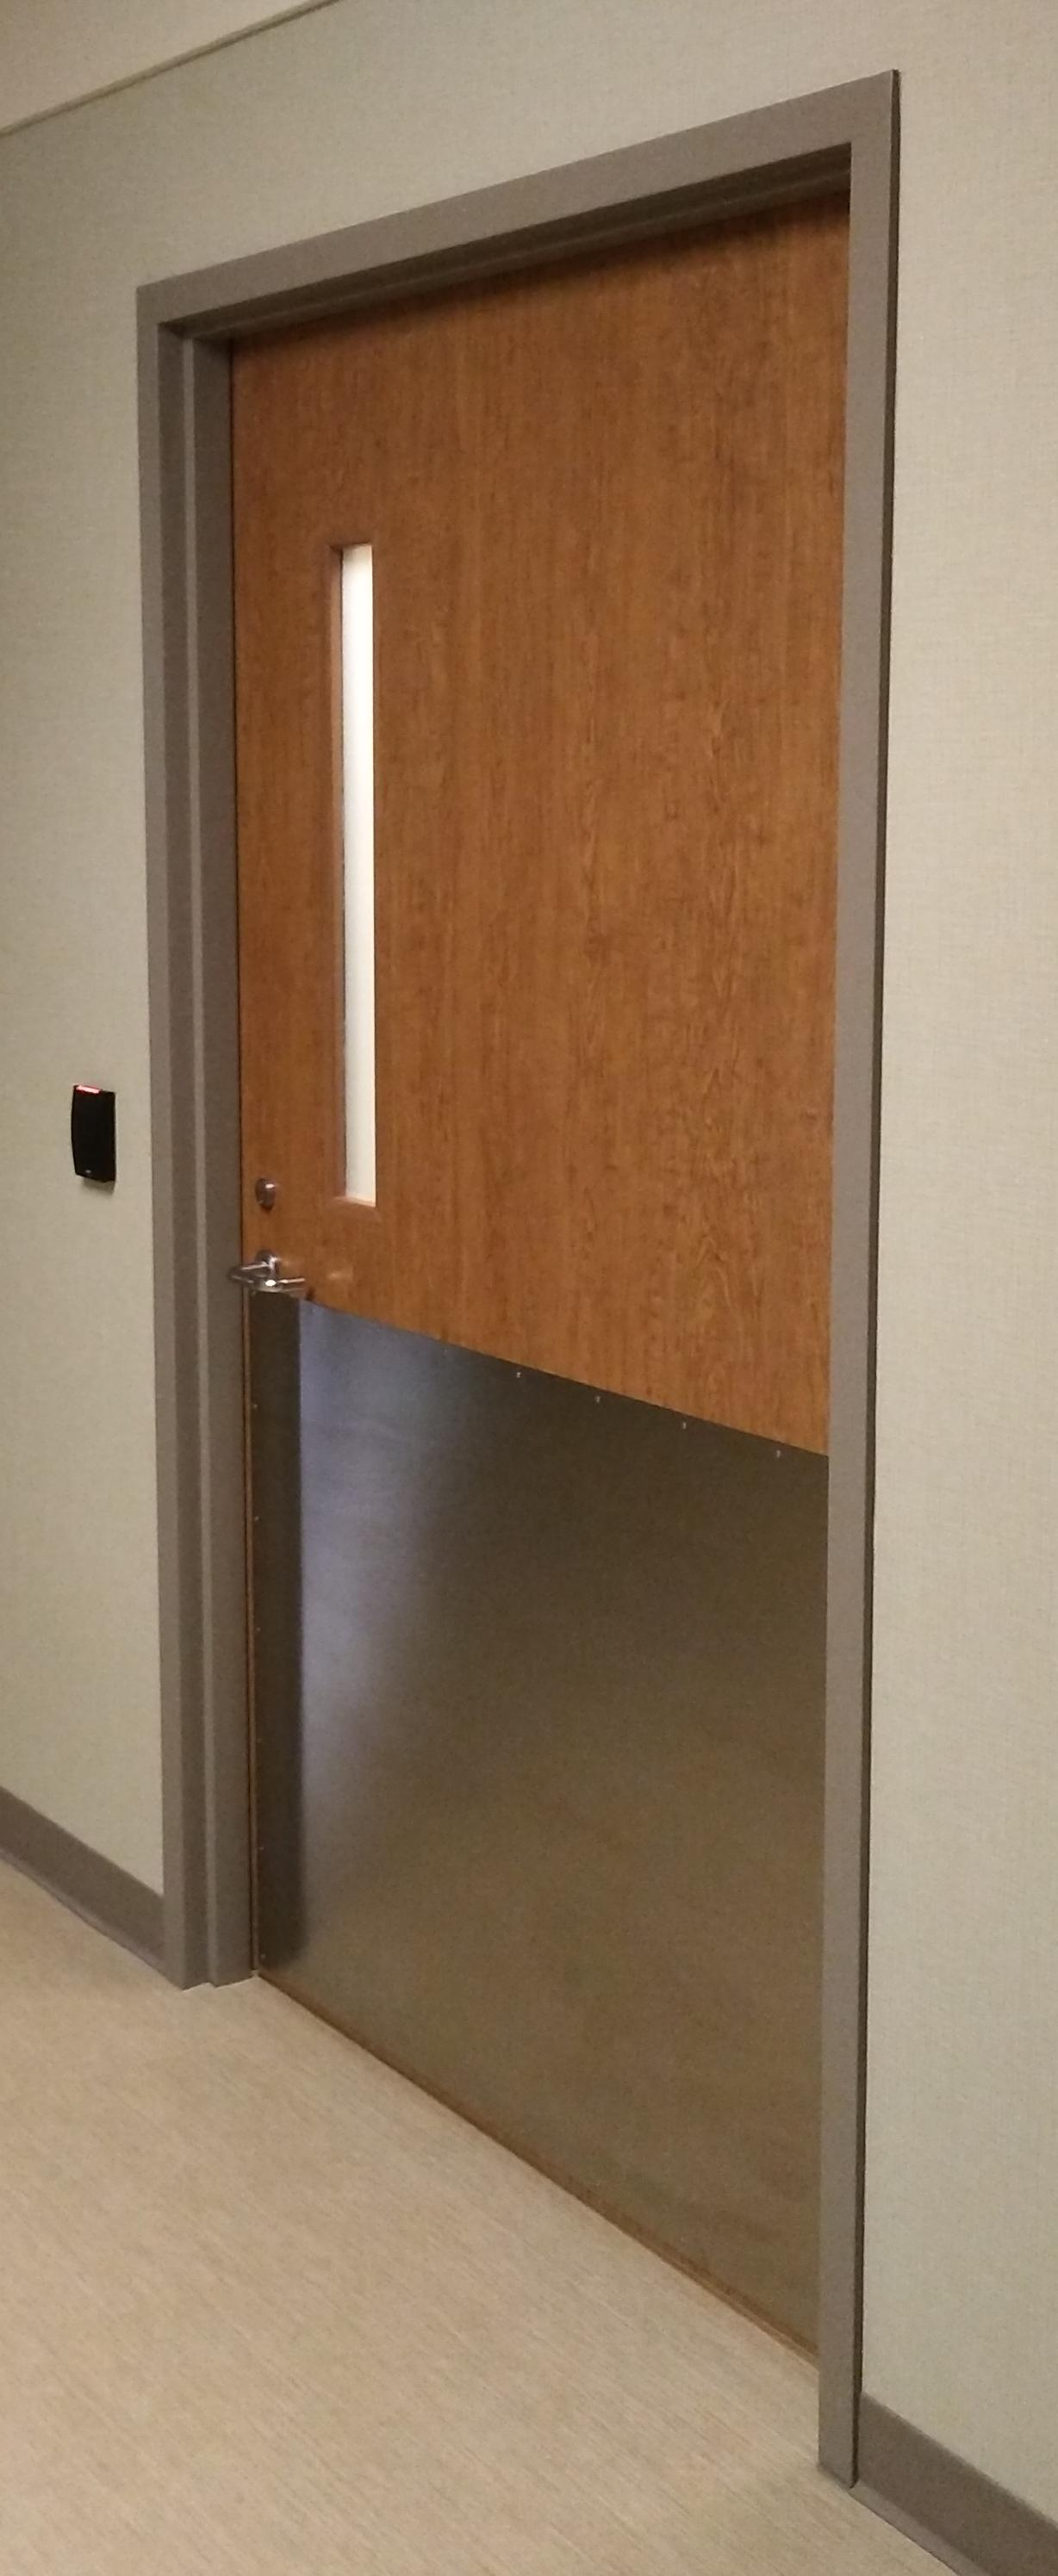door: (161, 161, 886, 2239)
